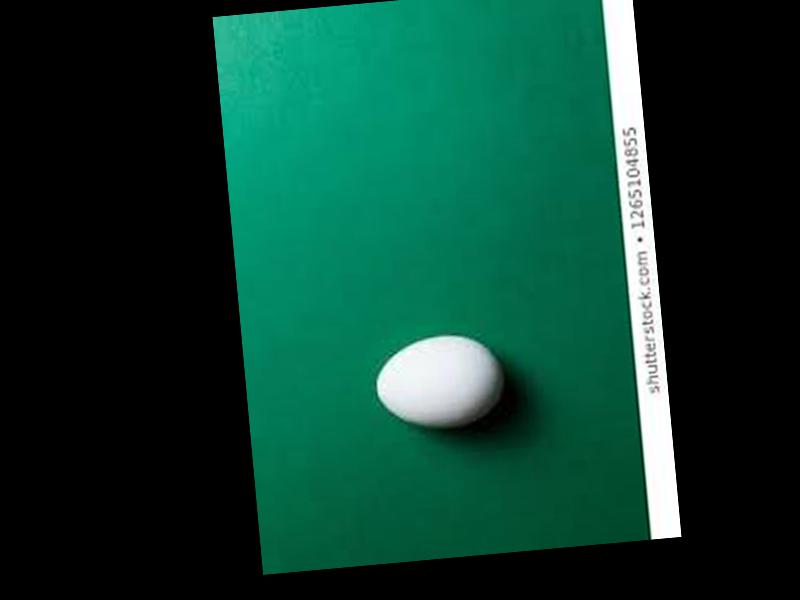Eggs: (373, 326, 507, 430)
